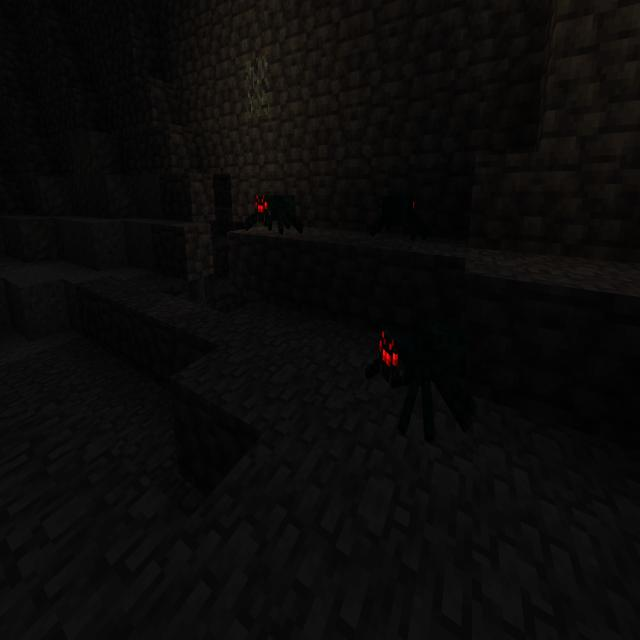Cave Spider: (364, 291, 498, 440), (365, 172, 465, 250), (243, 190, 306, 237)
